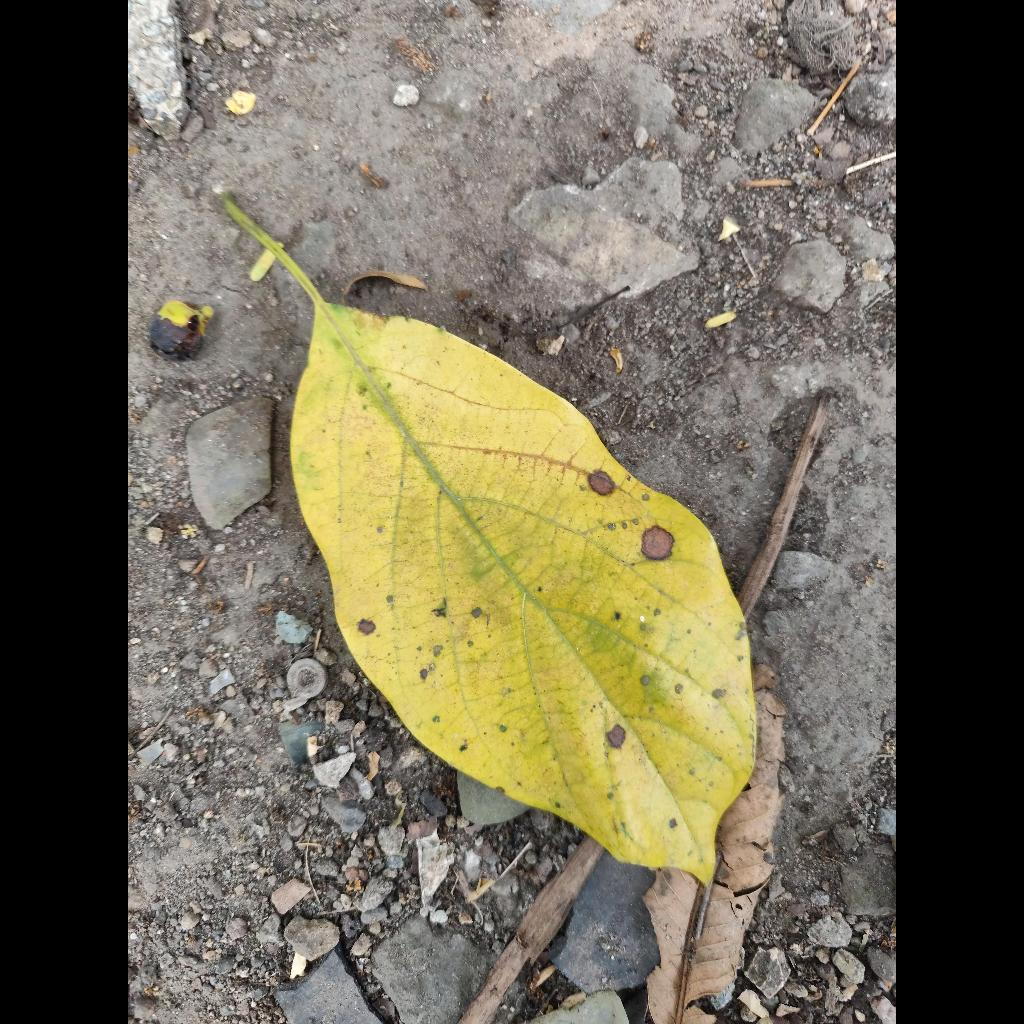deficiencia_nutricional: (280, 256, 756, 880)
